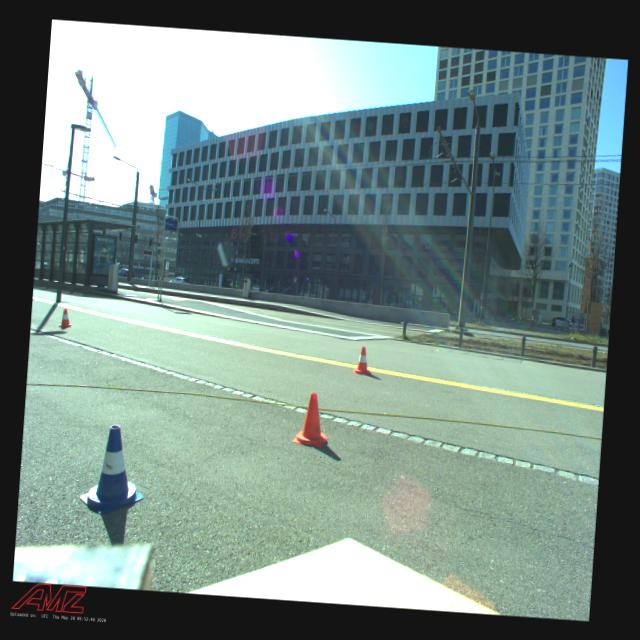blue_cone: (78, 422, 148, 518)
orange_cone: (292, 392, 331, 448), (351, 346, 373, 374), (58, 308, 73, 327)
